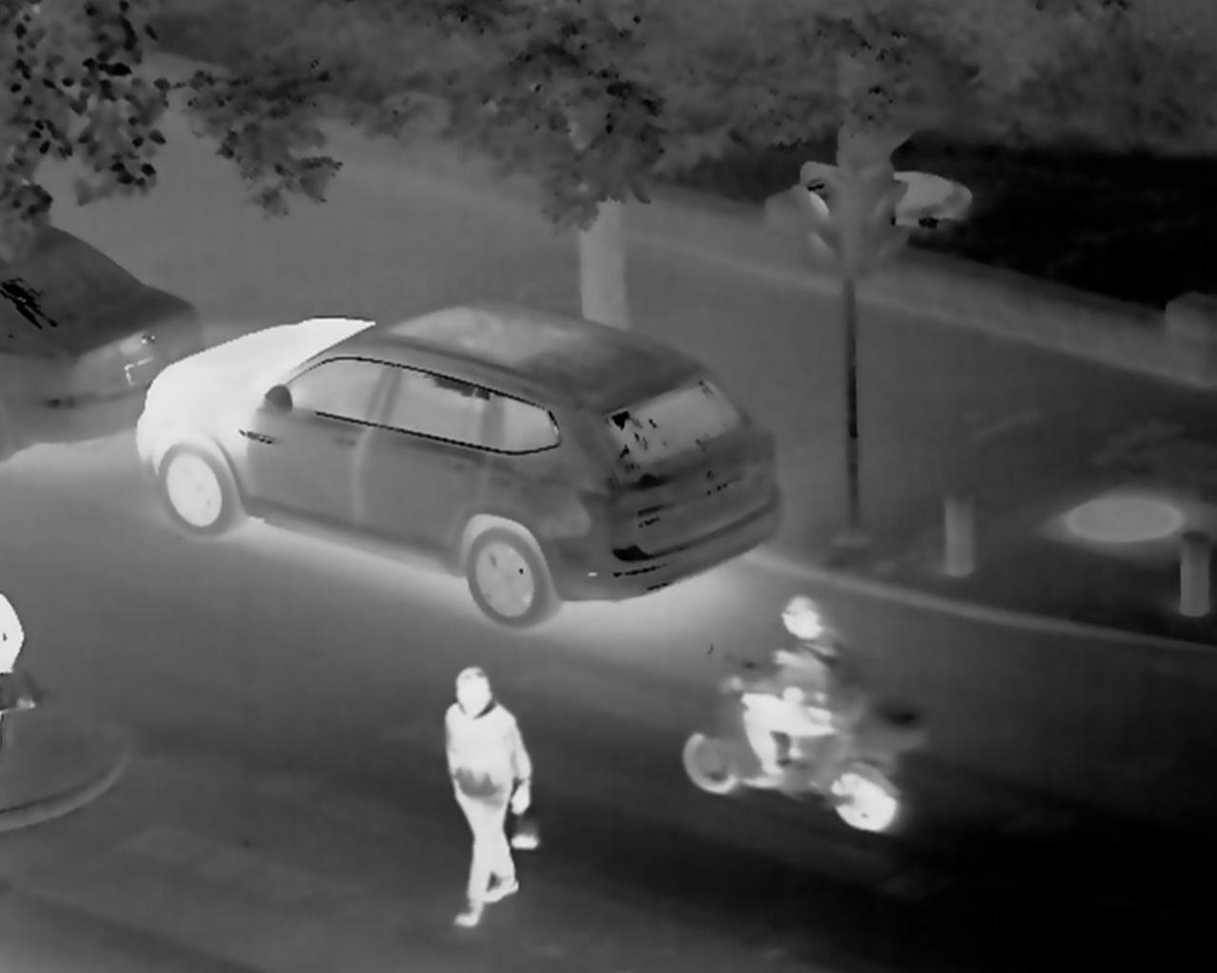person: (396, 655, 556, 926), (732, 588, 857, 795)
